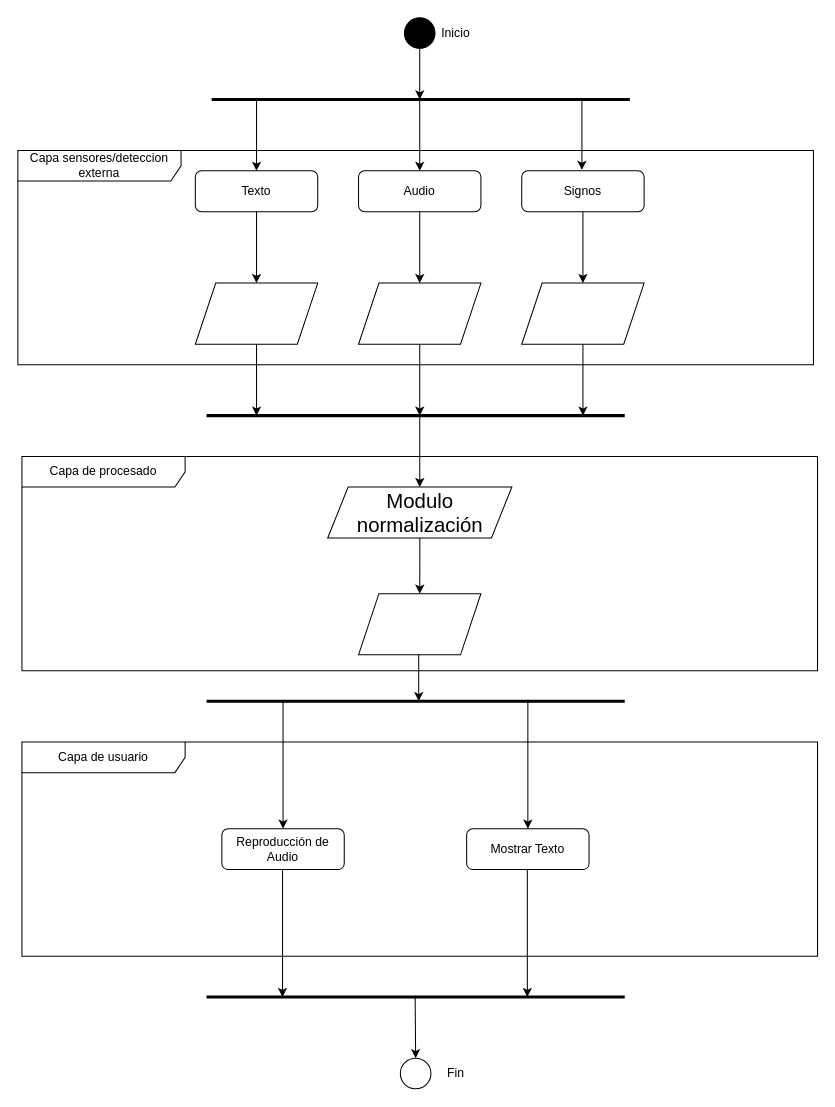
Image size: 835x1107. Some labels were removed from this diagram. The shapes that lost their labels are listed below. From the top down, each one's centre as x and y in pixels, then its label:
At (256,313): "Modulo deteccion texto".
At (419,313): "Modulo deteccion audio".
At (582,313): "Modulo deteccion signos".
At (419,624): "Modulo traducción".
